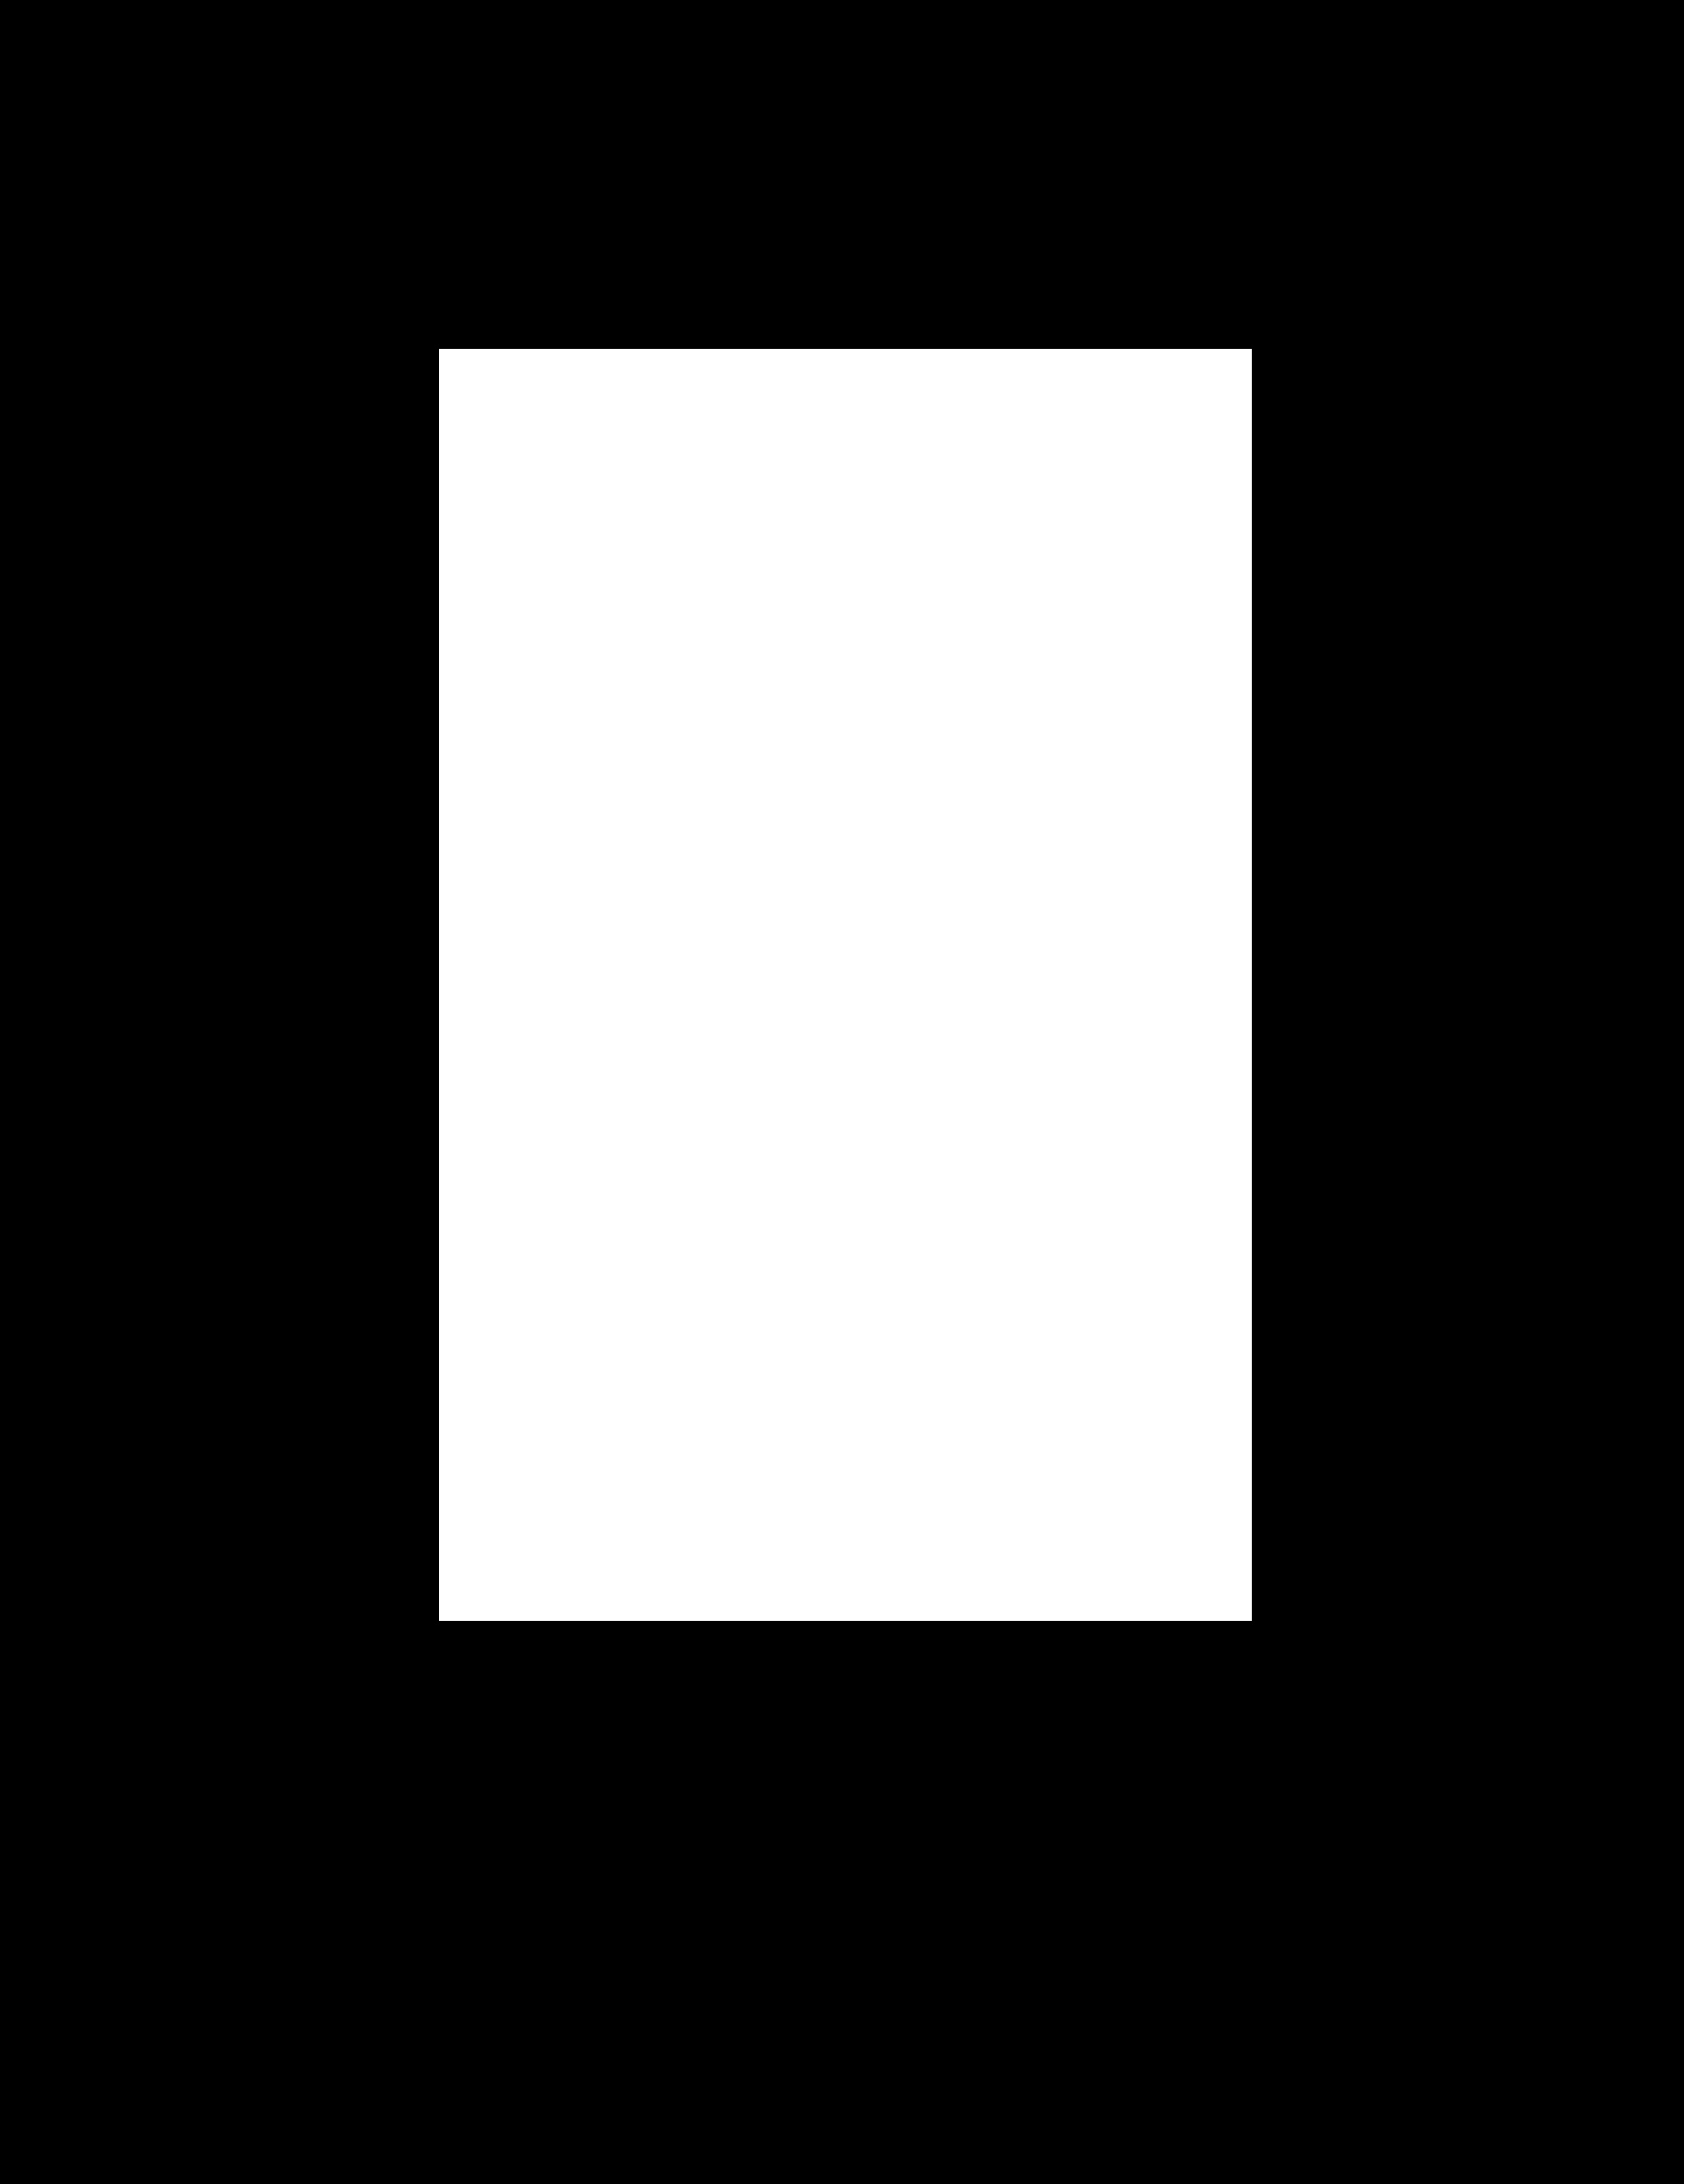table: (439, 348, 1251, 1620)
